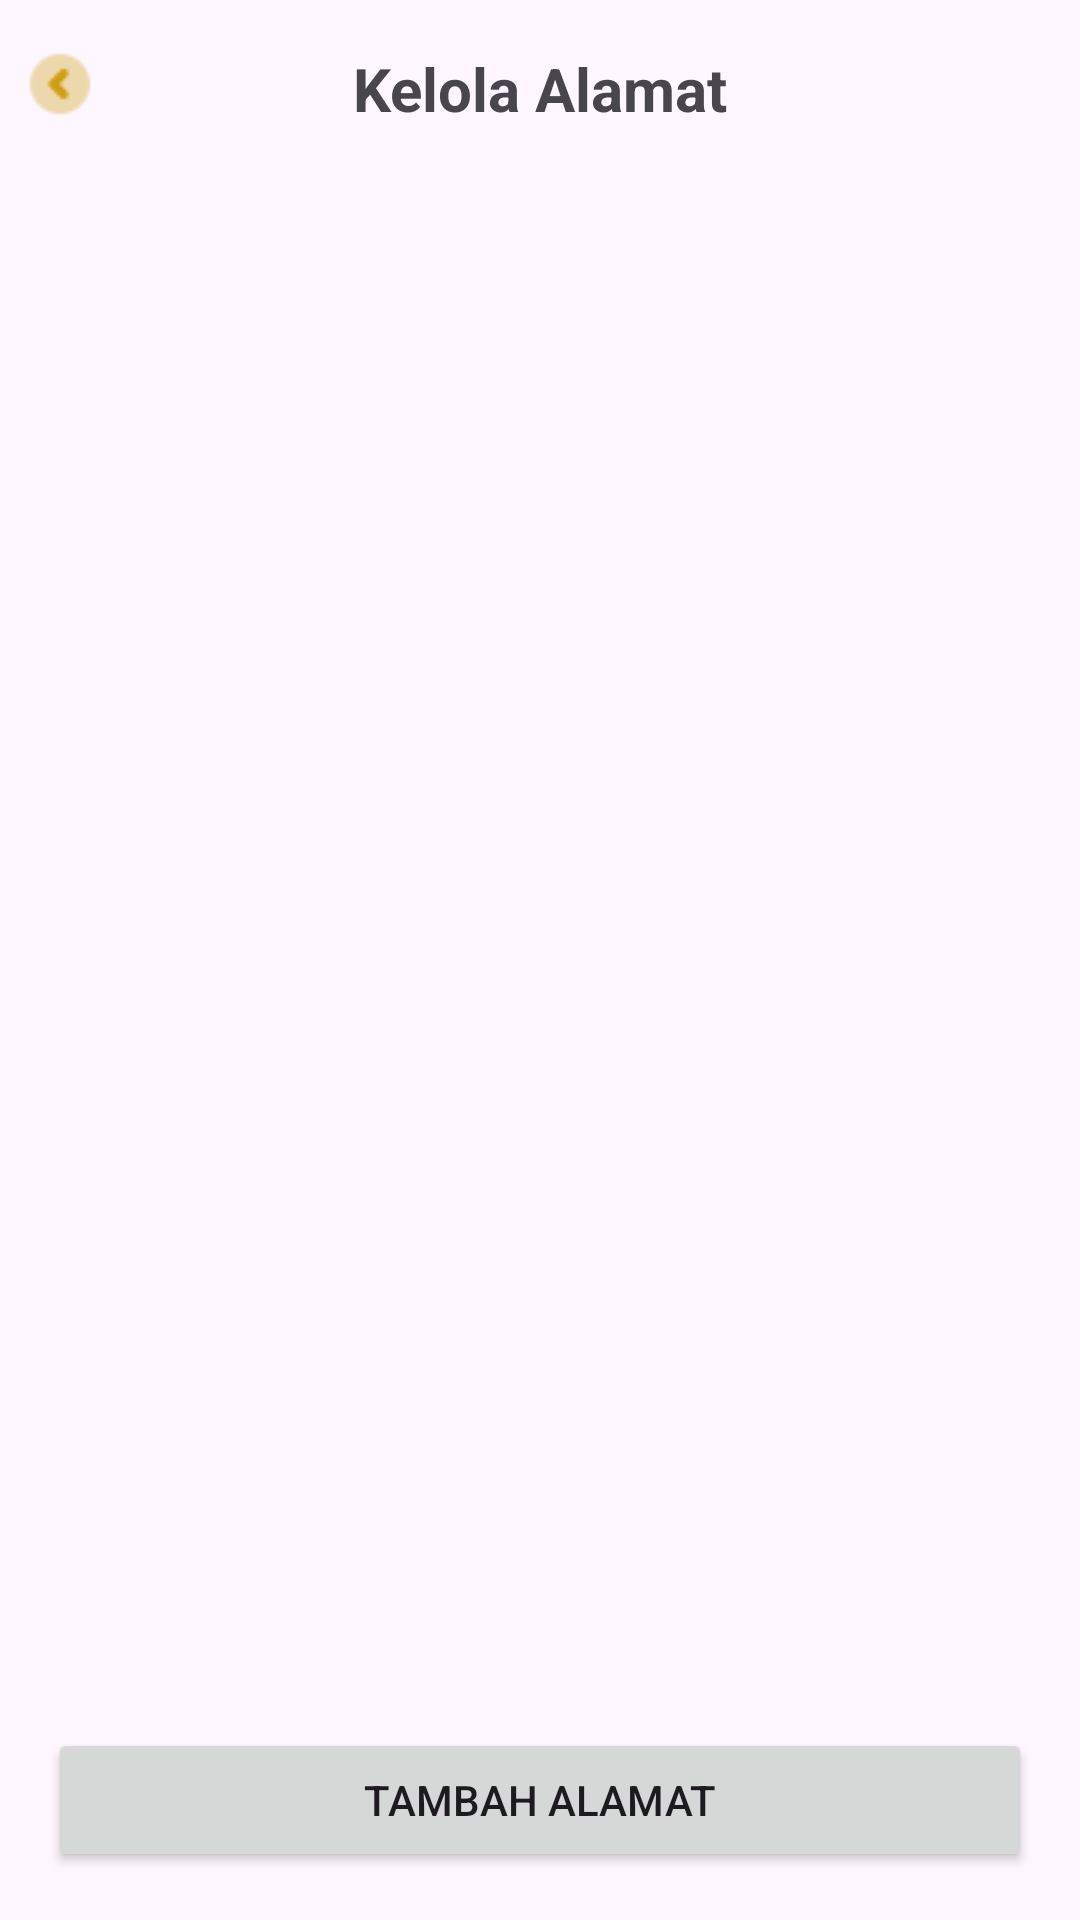

Locate icon controls on the screen. Image size 1080px x 1920px, boxes as (x1, y1, x2, y2).
arrow left: (29, 53, 91, 115)
